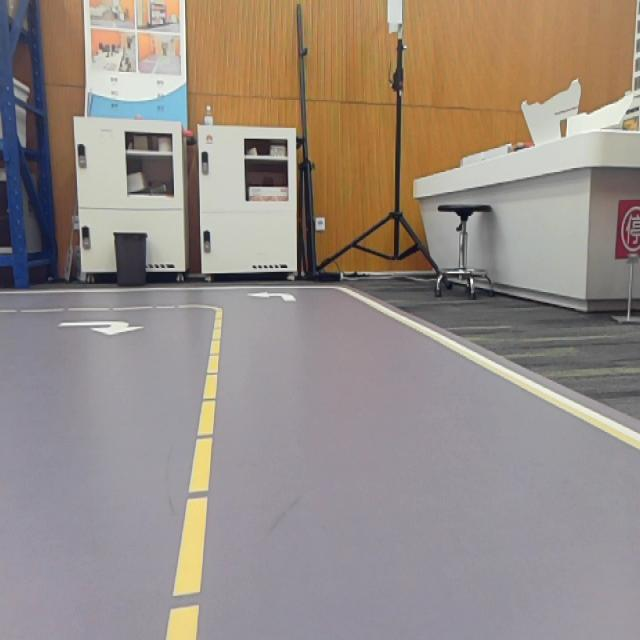left_lane: (165, 309, 222, 639)
right_lane: (338, 287, 640, 451)
